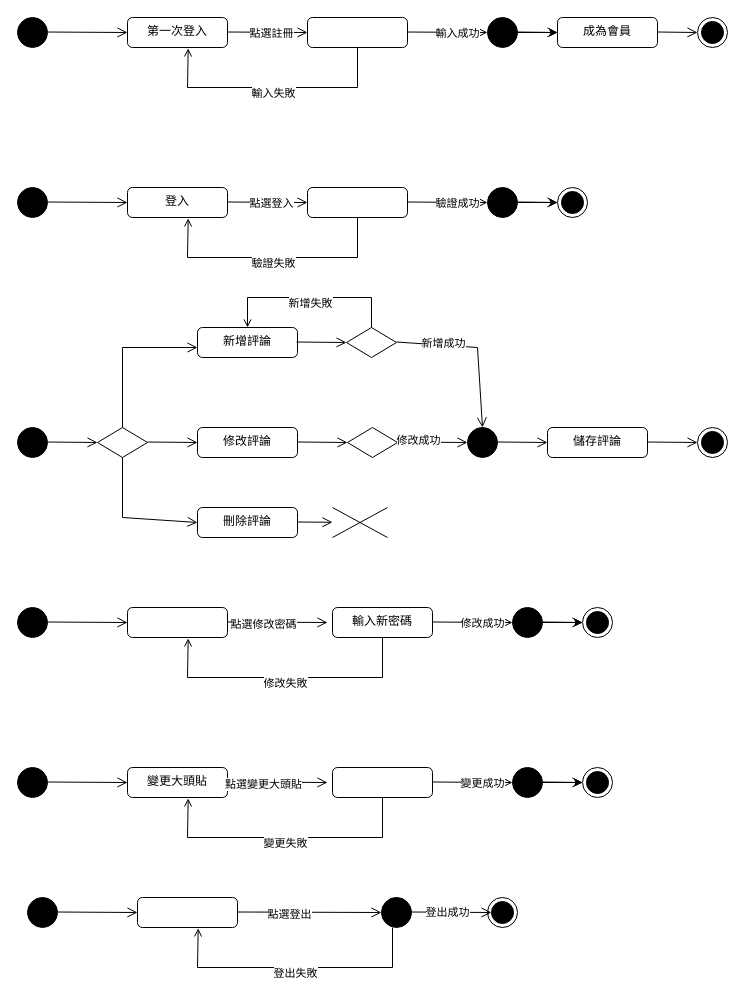
Image size: 745x997. Some labels were removed from this diagram. Here are the shapes that lost their labels. From the top down, the box of each, then its label:
(306, 16, 408, 48): 輸入資料
(306, 186, 408, 218): 輸入帳號密碼
(126, 606, 228, 638): 修改密碼
(332, 766, 432, 798): 選擇新頭貼
(136, 896, 238, 928): 登出
